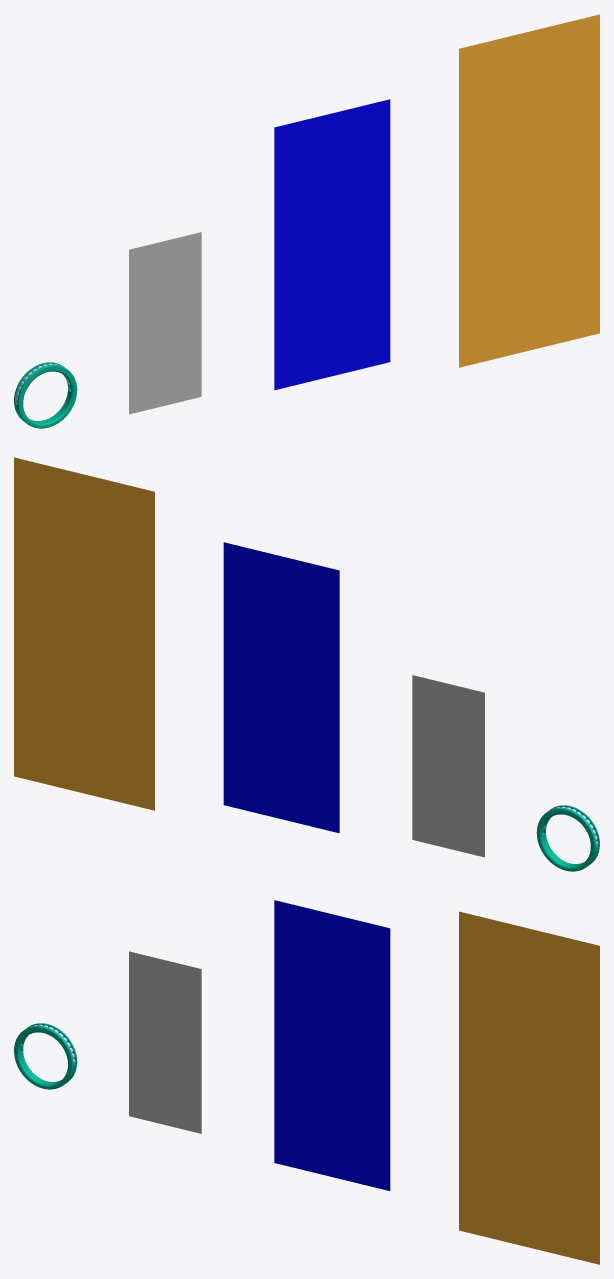
3 renders of one model, top to bottom at view 1: azimuth 30°, elevation 25°; view 2: azimuth 150°, elevation 25°; view 3: azimuth 330°, elevation 25°, orthographic.
Parts seen in each view (by area): view 1: BAND RING CHANNEL SETTING(front).3dm; view 2: BAND RING CHANNEL SETTING(front).3dm; view 3: BAND RING CHANNEL SETTING(front).3dm.
Boxes of the visible parts, bbox=[...] form: BAND RING CHANNEL SETTING(front).3dm: bbox=[14, 14, 599, 428]; BAND RING CHANNEL SETTING(front).3dm: bbox=[14, 457, 599, 871]; BAND RING CHANNEL SETTING(front).3dm: bbox=[14, 900, 599, 1264].
Size of the model in its own units: 27.92 by 14.58 by 0.4225.
